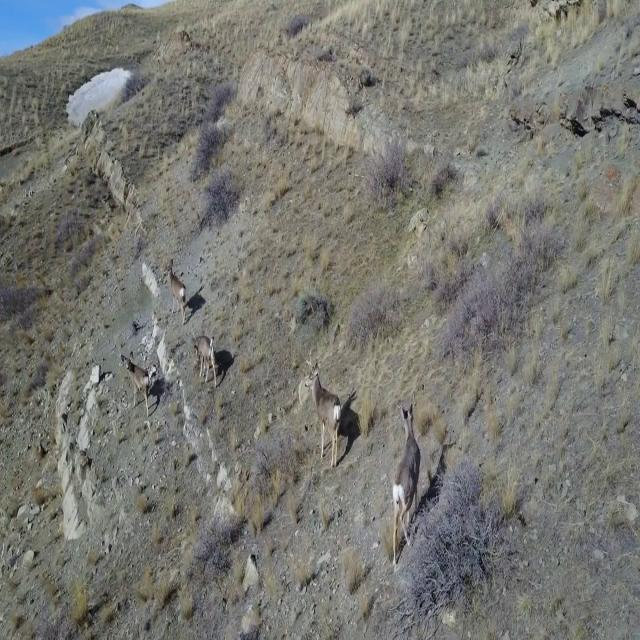Deer: (384, 394, 426, 568), (302, 352, 344, 470), (120, 350, 152, 420), (164, 257, 190, 326), (189, 334, 217, 391)
